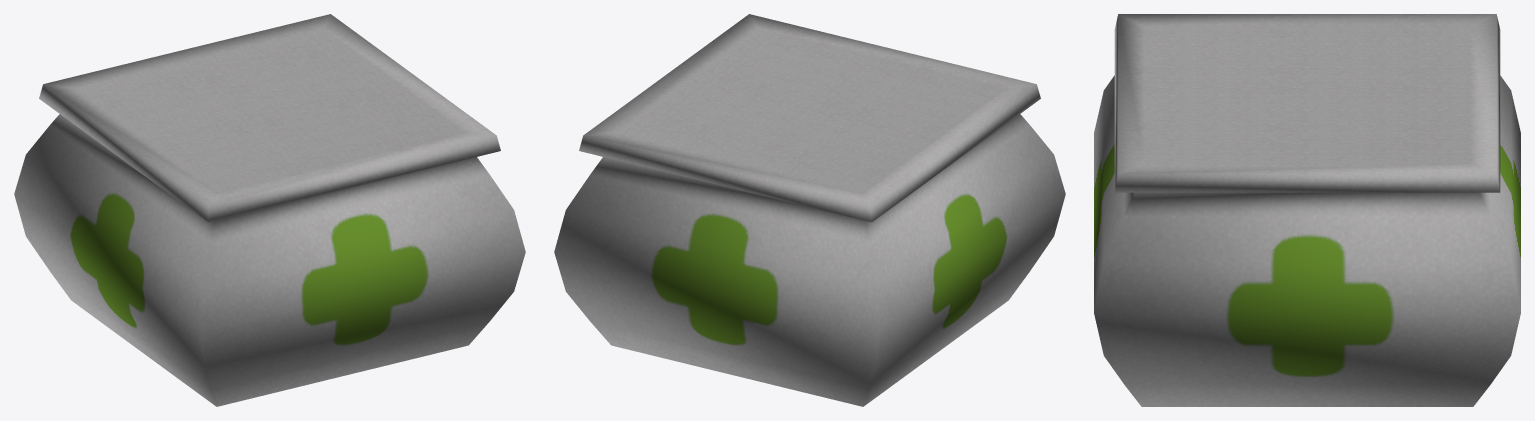
Rendered from Pedestal.glb.
3 views of the same model, side by side, from view 1: azimuth 30°, elevation 25°; view 2: azimuth 150°, elevation 25°; view 3: azimuth 270°, elevation 25° (orthographic). The views are drawn at different scales.
Parts seen in each view (by area): view 1: Cube; view 2: Cube; view 3: Cube.
Part boxes in pixels (x1,y1,x2,y2): Cube: (14,14,525,406); Cube: (554,14,1065,406); Cube: (1094,14,1520,406).
Bounding box in the file's own units: 1.24 × 0.7763 × 1.24.
1 material, 1 textured.
